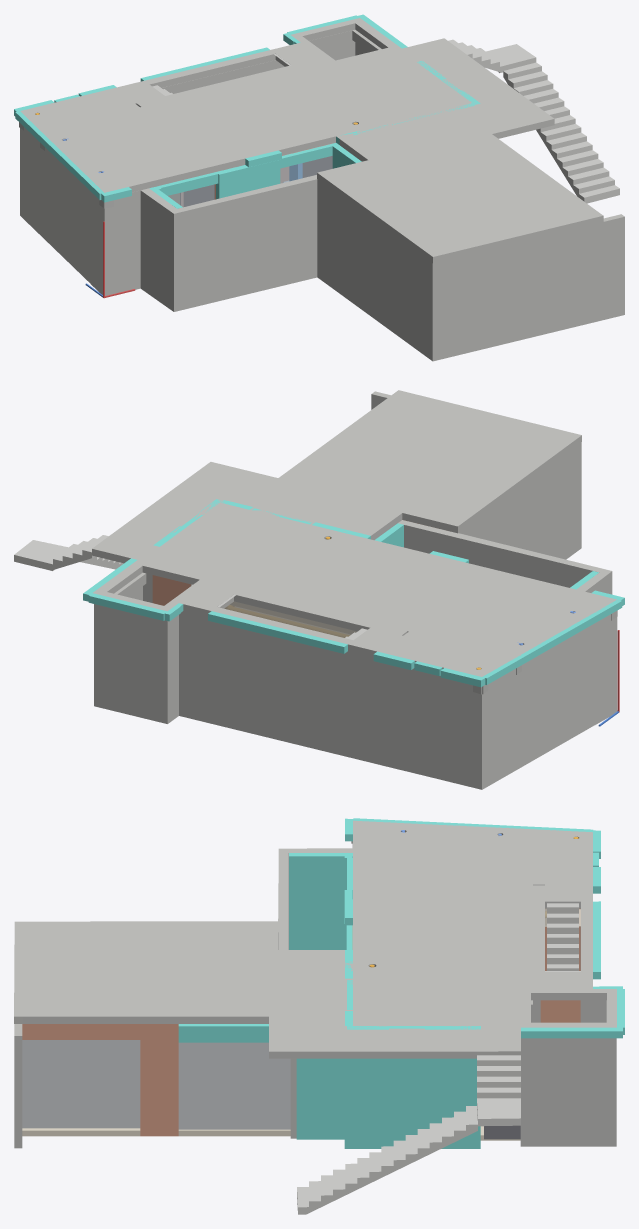
File: HouseEM_AR_BS.glb
3 views of the same model, one above another, from view 1: azimuth 30°, elevation 25°; view 2: azimuth 150°, elevation 25°; view 3: azimuth 270°, elevation 25° (orthographic). The views are drawn at different scales.
Parts seen in each view (by area): view 1: GF-SB01, BS-RS01, BS-RCW01, BS-RCW04, BS-RCW02, BS-ST02, BS-RCW09, BS-RCW08, BS-COL03, BS-RCW10, BS-ET08, BS-RCW07 (+10 smaller); view 2: GF-SB01, BS-RS01, BS-RCW05, BS-COL07, BS-RCW02, BS-RCW08, BS-RCW04, BS-RCW06, BS-COL08, BS-RCW07, BS-COL03, BS-COL09 (+13 smaller); view 3: GF-SB01, BS-RS01, BS-COL07, BS-GD02, BS-ET01, BS-GD01, BS-ET06, BS-ST02, BS-BW01, BS-ET03, BS-ST01, BS-FF01 (+11 smaller).
Part boxes in pixels (x1=…): GF-SB01: x1=20, y1=18, x2=554, y2=192; BS-RS01: x1=317, y1=131, x2=603, y2=263; BS-RCW01: x1=429, y1=214, x2=624, y2=361; BS-RCW04: x1=177, y1=175, x2=317, y2=309; BS-RCW02: x1=317, y1=179, x2=429, y2=358; BS-ST02: x1=503, y1=62, x2=619, y2=203; BS-RCW09: x1=140, y1=188, x2=181, y2=311; BS-RCW08: x1=45, y1=152, x2=90, y2=283; BS-COL03: x1=90, y1=196, x2=117, y2=295; BS-RCW10: x1=117, y1=200, x2=140, y2=292; BS-ET08: x1=216, y1=160, x2=280, y2=199; BS-RCW07: x1=25, y1=132, x2=41, y2=235; GF-SB01: x1=92, y1=462, x2=617, y2=676; BS-RS01: x1=275, y1=390, x2=581, y2=533; BS-RCW05: x1=182, y1=621, x2=380, y2=764; BS-COL07: x1=94, y1=573, x2=182, y2=723; BS-RCW02: x1=458, y1=445, x2=578, y2=559; BS-RCW08: x1=522, y1=630, x2=594, y2=766; BS-RCW04: x1=398, y1=520, x2=603, y2=587; BS-RCW06: x1=400, y1=674, x2=449, y2=781; BS-COL08: x1=449, y1=686, x2=489, y2=789; BS-RCW07: x1=490, y1=675, x2=515, y2=784; BS-COL03: x1=595, y1=617, x2=617, y2=724; BS-COL09: x1=380, y1=669, x2=400, y2=769; GF-SB01: x1=269, y1=820, x2=616, y2=1058; BS-RS01: x1=14, y1=921, x2=278, y2=1023; BS-COL07: x1=520, y1=1000, x2=616, y2=1146; BS-GD02: x1=22, y1=1040, x2=140, y2=1128; BS-ET01: x1=344, y1=1058, x2=480, y2=1148; BS-GD01: x1=178, y1=1042, x2=290, y2=1129; BS-ET06: x1=289, y1=853, x2=352, y2=949; BS-ST02: x1=297, y1=1106, x2=477, y2=1214; BS-BW01: x1=140, y1=1024, x2=178, y2=1136; BS-ET03: x1=296, y1=1058, x2=344, y2=1139; BS-ST01: x1=547, y1=903, x2=578, y2=970; BS-FF01: x1=22, y1=1126, x2=520, y2=1140.
Size of the model in its own units: 16.39 by 3.3 by 15.27.
